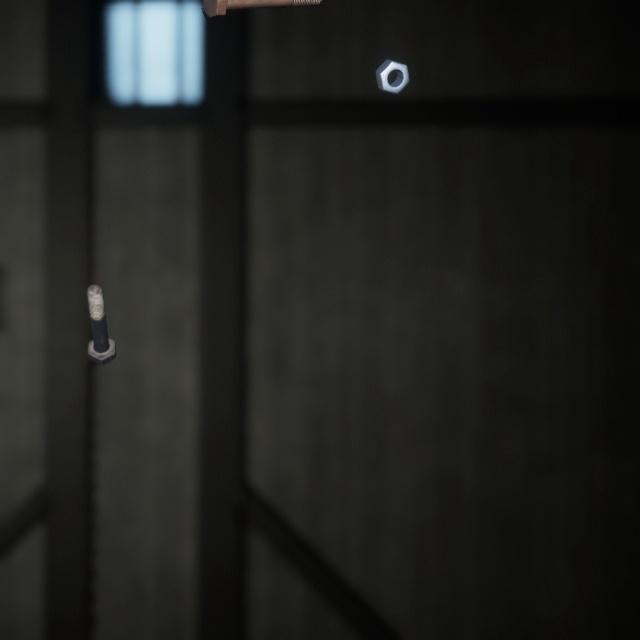bolt: (82, 262, 120, 352)
nut: (370, 45, 414, 88)
